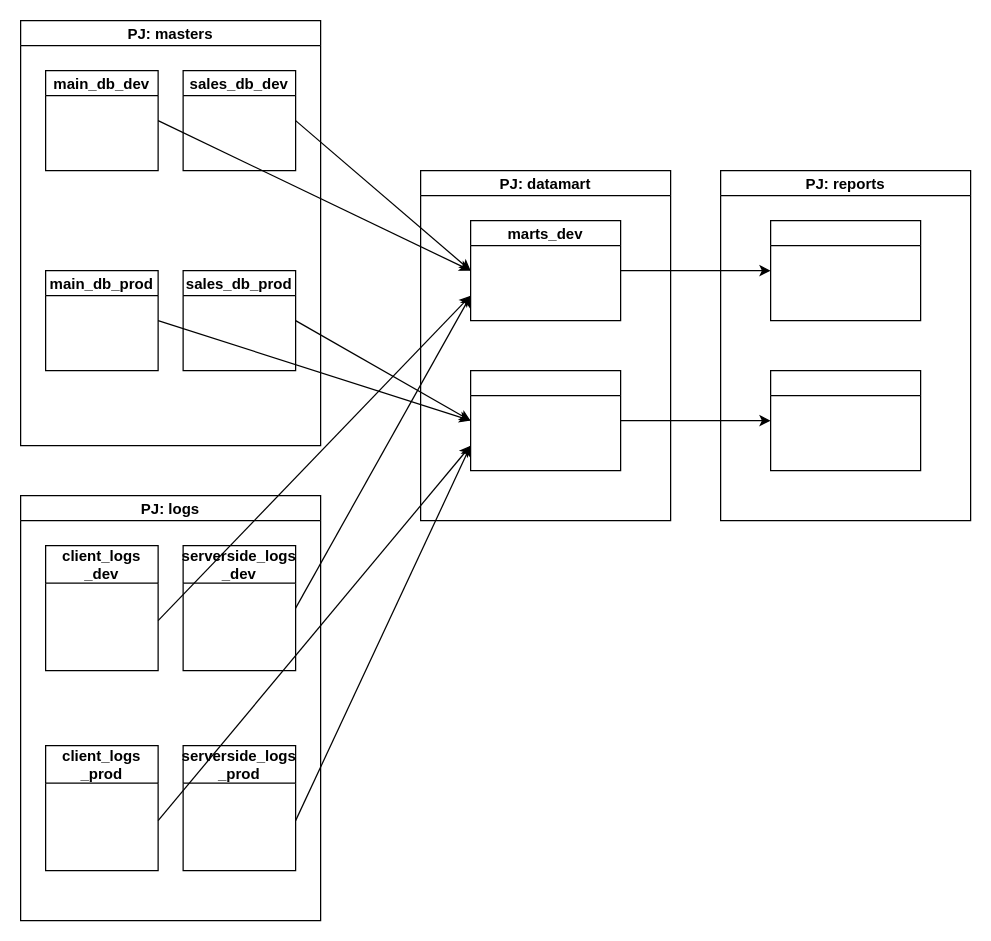
This 991x941 diagram has some shape labels left out. The centre of each missing label's shape, as x and y in pixels:
"marts_prod" belongs at (545,420).
"reports_dev" belongs at (845,270).
"reports_prod" belongs at (845,420).
